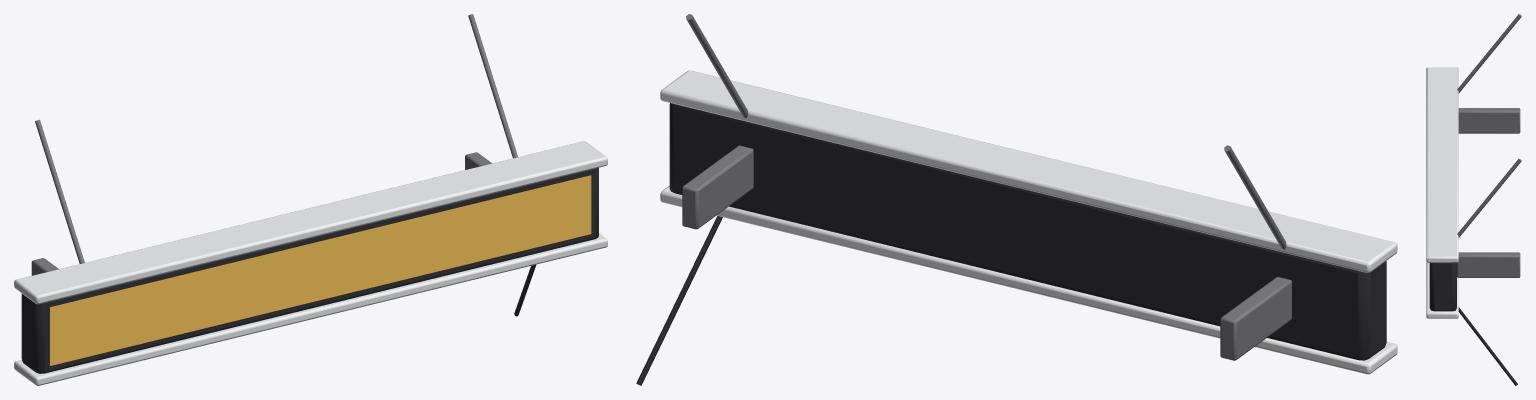
Rendered from led_ticker.glb.
3 views of the same model, side by side, from view 1: azimuth 30°, elevation 25°; view 2: azimuth 150°, elevation 25°; view 3: azimuth 270°, elevation 25° (orthographic). The views are drawn at different scales.
Parts seen in each view (by area): view 1: led_ticker; view 2: led_ticker; view 3: led_ticker.
Boxes of the visible parts, box(x1,y1,x2,y2) form: led_ticker: box(14, 14, 607, 385); led_ticker: box(636, 14, 1397, 385); led_ticker: box(1426, 14, 1521, 385).
Size of the model in its own units: 2.64 by 1.37 by 0.5584.
